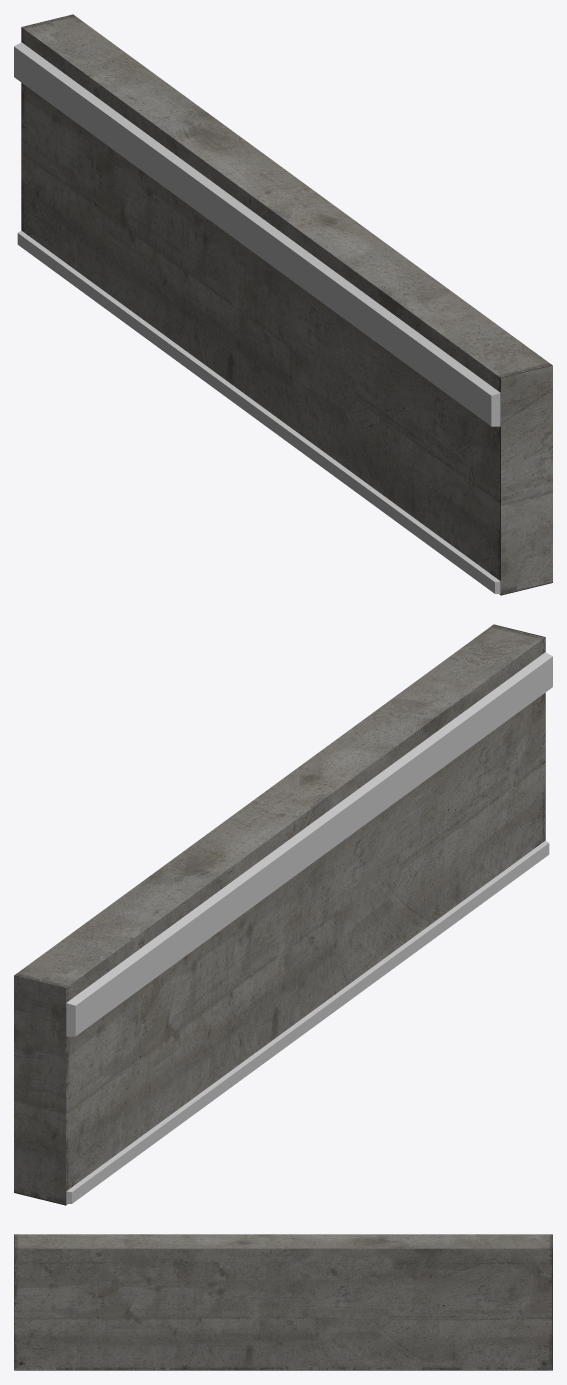
The model's file is CP_Parapet_B_4m_02.fbx.
The picture shows the model from 3 angles, top to bottom: view 1: azimuth 30°, elevation 25°; view 2: azimuth 150°, elevation 25°; view 3: azimuth 270°, elevation 25°; orthographic projection. The views are drawn at different scales.
Visible parts, largest first — view 1: CP_Parapet_B_4m_02; view 2: CP_Parapet_B_4m_02; view 3: CP_Parapet_B_4m_02.
Part boxes in pixels (x1,y1,x2,y2): CP_Parapet_B_4m_02: [14, 14, 552, 595]; CP_Parapet_B_4m_02: [14, 624, 552, 1205]; CP_Parapet_B_4m_02: [14, 1234, 552, 1370].
Bounding box in the file's own units: 29.1 × 100 × 400.
